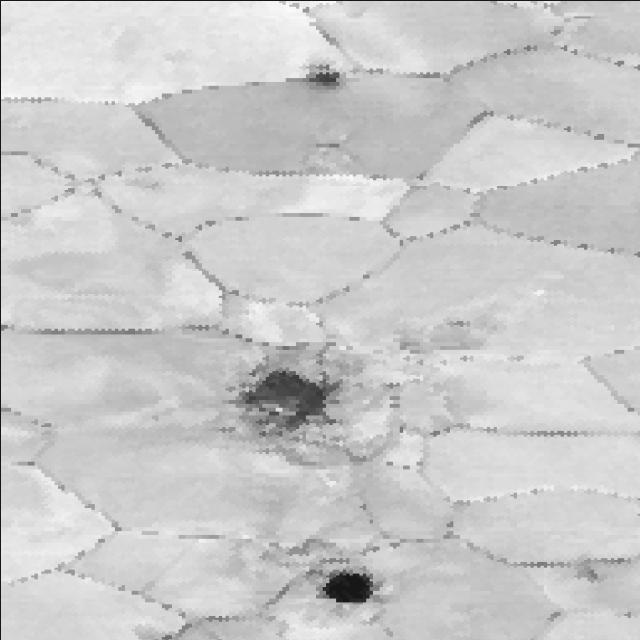good_void: (193, 353, 382, 442), (305, 555, 404, 613), (397, 312, 497, 363), (252, 530, 333, 566), (302, 125, 357, 163), (287, 66, 356, 88), (559, 559, 606, 587)
